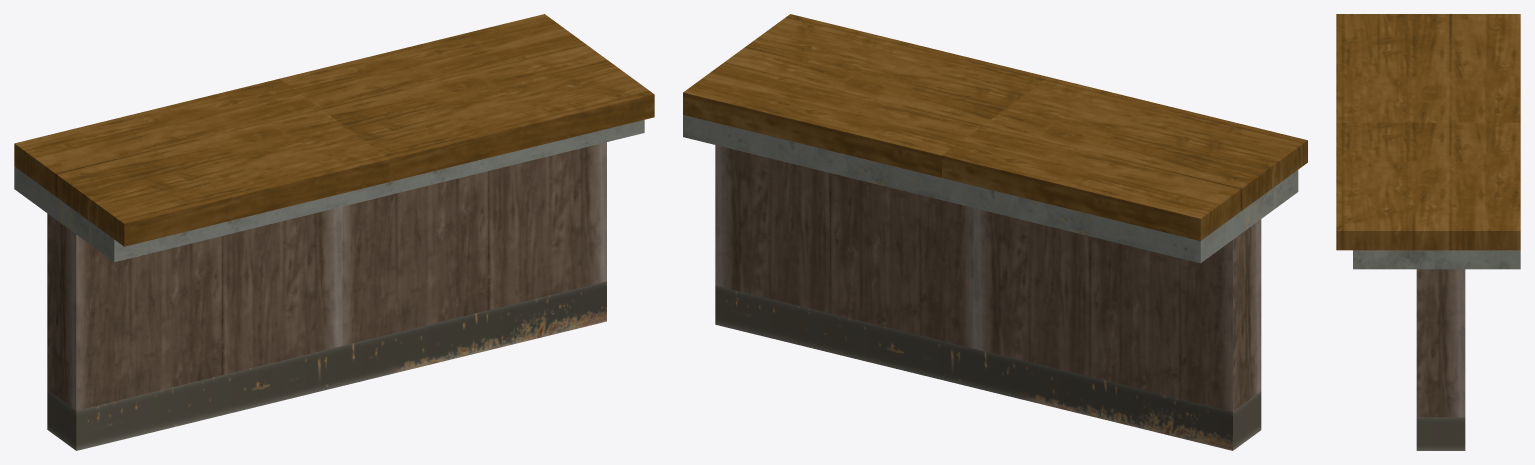
Rendered from tablecounter02a.fbx.
3 views of the same model, side by side, from view 1: azimuth 30°, elevation 25°; view 2: azimuth 150°, elevation 25°; view 3: azimuth 270°, elevation 25° (orthographic). The views are drawn at different scales.
Visible parts, largest first — view 1: tablecounter02a; view 2: tablecounter02a; view 3: tablecounter02a.
Boxes of the visible parts, bbox=[...] form: tablecounter02a: bbox=[14, 14, 654, 450]; tablecounter02a: bbox=[683, 14, 1307, 450]; tablecounter02a: bbox=[1336, 14, 1520, 450].
Size of the model in its own units: 1.85 by 0.8754 by 0.6656.
